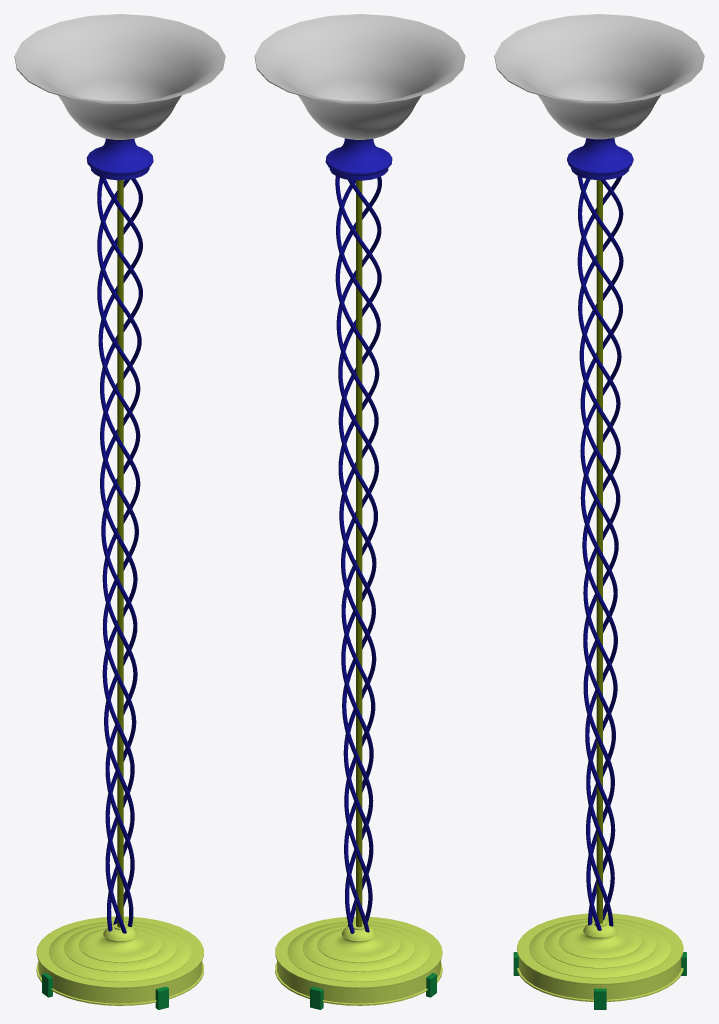
File: Floor Lamp-2.obj
3 views of the same model, side by side, from view 1: azimuth 30°, elevation 25°; view 2: azimuth 150°, elevation 25°; view 3: azimuth 270°, elevation 25° (orthographic).
Visible parts, largest first — view 1: Line123459433, Line43, Cylinder45, Helix42, Helix41, Helix39, Helix40, Line123459432; view 2: Line123459433, Line43, Cylinder45, Helix41, Helix40, Helix42, Helix39, Line123459432; view 3: Line123459433, Line43, Cylinder45, Helix40, Helix39, Helix42, Helix41, Line123459432.
Part boxes in pixels (x1,y1,x2,y2): Line123459433: [14, 14, 225, 139]; Line43: [36, 916, 203, 1005]; Cylinder45: [117, 180, 123, 927]; Helix42: [97, 178, 142, 933]; Helix41: [98, 177, 142, 931]; Helix39: [97, 179, 141, 926]; Helix40: [97, 177, 142, 924]; Line123459432: [86, 138, 153, 180]; Line123459433: [254, 14, 465, 139]; Line43: [275, 916, 442, 1005]; Cylinder45: [356, 180, 362, 927]; Helix41: [335, 176, 381, 932]; Helix40: [336, 180, 381, 933]; Helix42: [336, 180, 380, 923]; Helix39: [335, 176, 381, 926]; Line123459432: [325, 138, 392, 180]; Line123459433: [494, 14, 704, 139]; Line43: [517, 913, 683, 1001]; Cylinder45: [596, 180, 602, 923]; Helix40: [577, 176, 622, 926]; Helix39: [578, 180, 623, 930]; Helix42: [577, 176, 623, 925]; Helix41: [578, 178, 622, 920]; Line123459432: [567, 138, 633, 180].
Size of the model in its own units: 576 by 2776 by 578.
